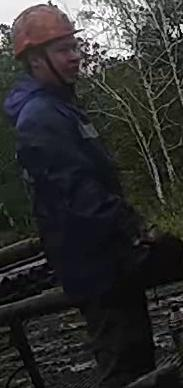gloves: (119, 203, 183, 280)
helmet: (12, 3, 83, 59)
vest: (3, 78, 144, 308)
